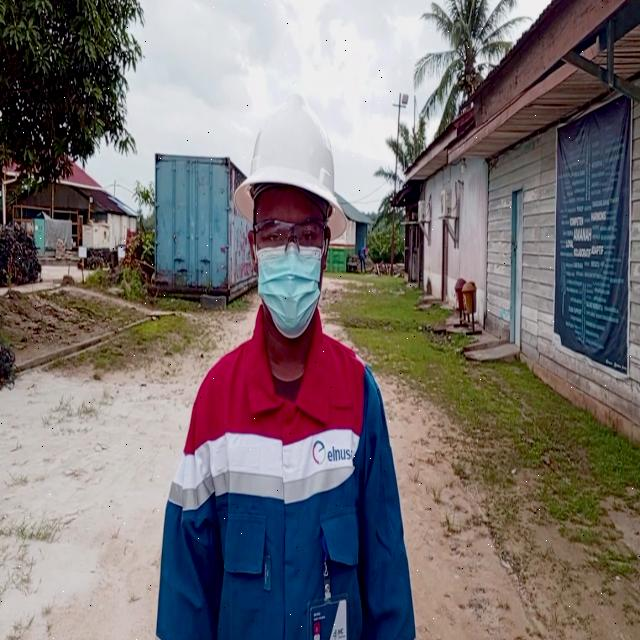Hardhat: (233, 97, 349, 249)
Mask: (258, 246, 324, 333)
Overall Suit: (154, 335, 414, 640)
